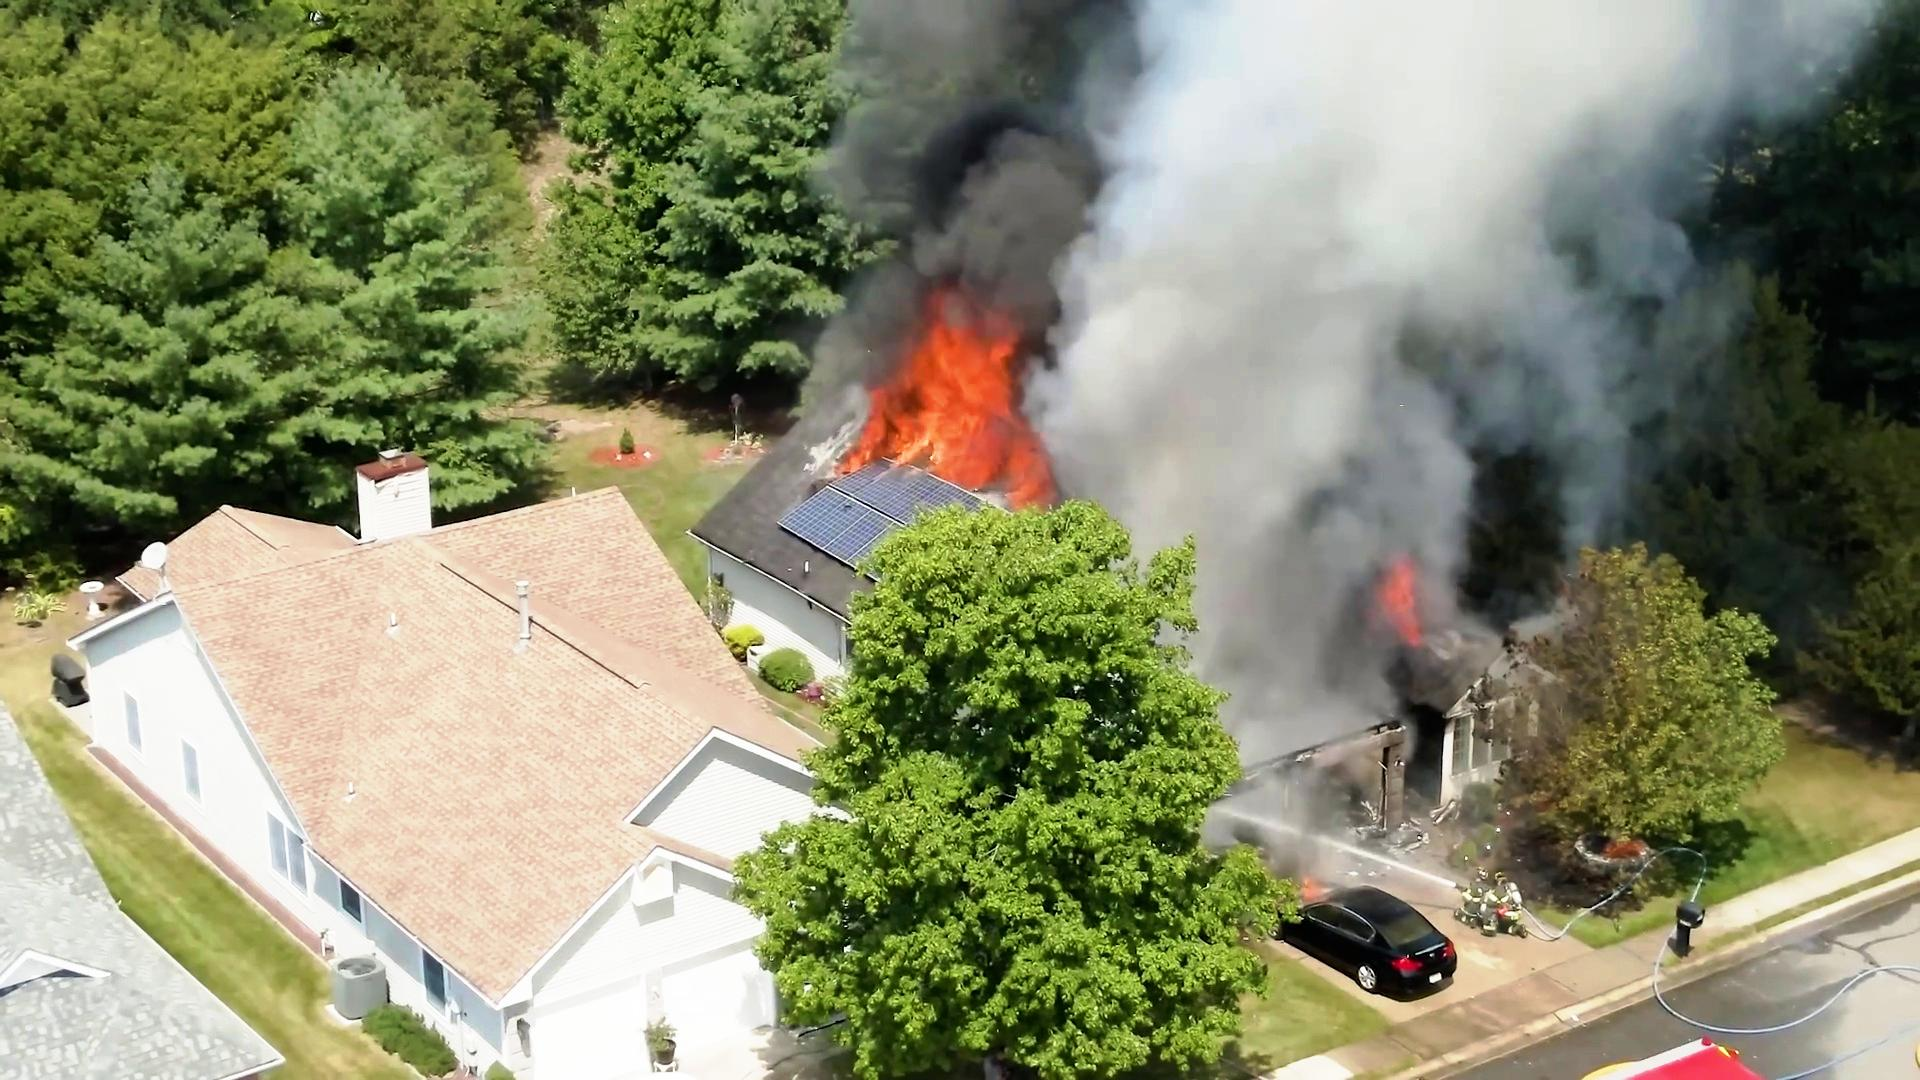fire: (858, 318, 1040, 502)
smoke: (1059, 25, 1411, 465), (877, 30, 1051, 295)
